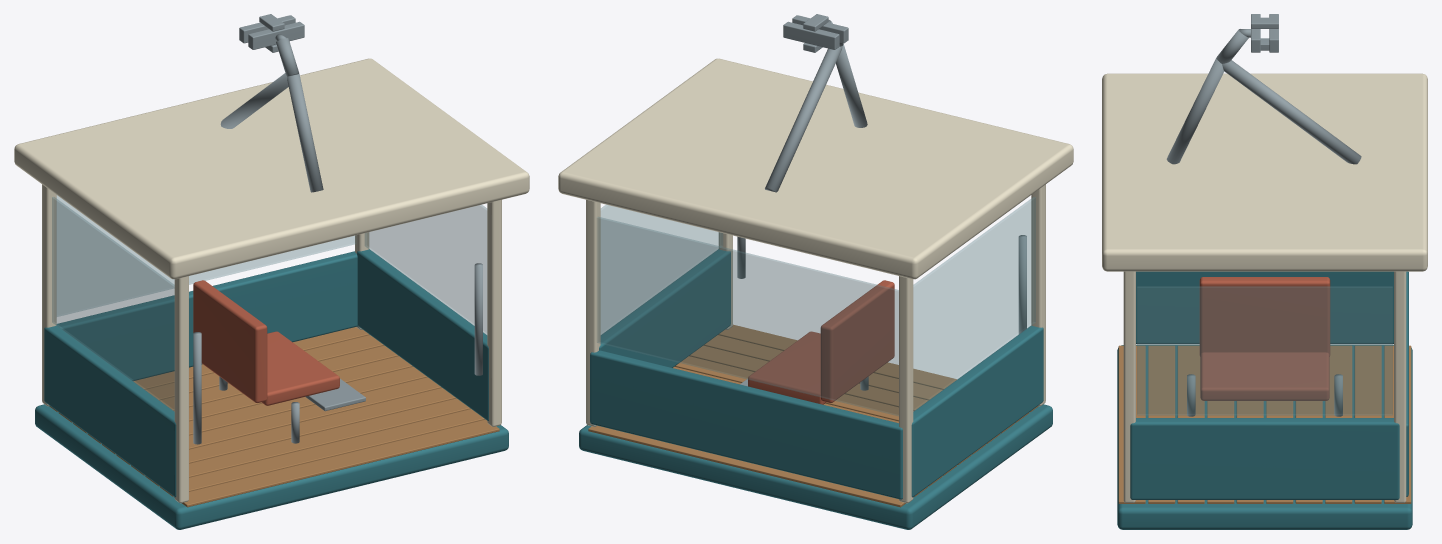
File: cable.glb
The picture shows the model from 3 angles, left to right: view 1: azimuth 30°, elevation 25°; view 2: azimuth 150°, elevation 25°; view 3: azimuth 270°, elevation 25°; orthographic projection. The views are drawn at different scales.
Parts seen in each view (by area): view 1: roof weather cap, end windscreen, starboard sill, floor structural tray, end sill, end sill.001, starboard glazing, end windscreen.001, seat back, floor ash slat.009, floor ash slat.008, floor ash slat.007 (+17 smaller); view 2: roof weather cap, starboard glazing, starboard sill, end windscreen, floor structural tray, end sill, end windscreen.001, end sill.001, seat back, seat cushion, corner post, floor ash slat (+10 smaller); view 3: roof weather cap, end windscreen.001, end sill.001, end sill, seat back, floor structural tray, seat cushion, corner post.002, corner post.003, suspension yoke, floor ash slat.001, floor ash slat.008 (+11 smaller).
Part boxes in pixels (x1=…): roof weather cap: x1=14, y1=58, x2=529, y2=279; end windscreen: x1=52, y1=197, x2=174, y2=411; starboard sill: x1=56, y1=251, x2=357, y2=380; floor structural tray: x1=35, y1=398, x2=508, y2=529; end sill: x1=44, y1=325, x2=176, y2=497; end sill.001: x1=357, y1=249, x2=488, y2=420; starboard glazing: x1=57, y1=195, x2=355, y2=316; end windscreen.001: x1=365, y1=205, x2=486, y2=334; seat back: x1=193, y1=280, x2=267, y2=402; floor ash slat.009: x1=174, y1=419, x2=499, y2=507; floor ash slat.008: x1=159, y1=409, x2=485, y2=496; floor ash slat.007: x1=145, y1=398, x2=470, y2=486; roof weather cap: x1=558, y1=58, x2=1073, y2=279; starboard glazing: x1=597, y1=217, x2=898, y2=416; starboard sill: x1=590, y1=350, x2=902, y2=499; end windscreen: x1=913, y1=197, x2=1035, y2=411; floor structural tray: x1=579, y1=404, x2=1052, y2=529; end sill: x1=911, y1=325, x2=1043, y2=497; end windscreen.001: x1=601, y1=205, x2=722, y2=334; end sill.001: x1=599, y1=249, x2=730, y2=367; seat back: x1=820, y1=280, x2=894, y2=402; seat cushion: x1=748, y1=331, x2=825, y2=404; corner post: x1=899, y1=276, x2=913, y2=503; floor ash slat: x1=588, y1=425, x2=913, y2=507; roof weather cap: x1=1102, y1=73, x2=1427, y2=271; end windscreen.001: x1=1137, y1=286, x2=1392, y2=415; end sill.001: x1=1130, y1=418, x2=1399, y2=499; end sill: x1=1136, y1=271, x2=1393, y2=344; seat back: x1=1199, y1=277, x2=1330, y2=356; floor structural tray: x1=1117, y1=345, x2=1412, y2=529; seat cushion: x1=1200, y1=352, x2=1329, y2=400; corner post.002: x1=1394, y1=271, x2=1406, y2=502; corner post.003: x1=1123, y1=271, x2=1135, y2=502; suspension yoke: x1=1222, y1=60, x2=1361, y2=164; floor ash slat.001: x1=1354, y1=345, x2=1381, y2=503; floor ash slat.008: x1=1148, y1=345, x2=1175, y2=503.
Size of the model in its own units: 3.45 by 3.84 by 2.65.
